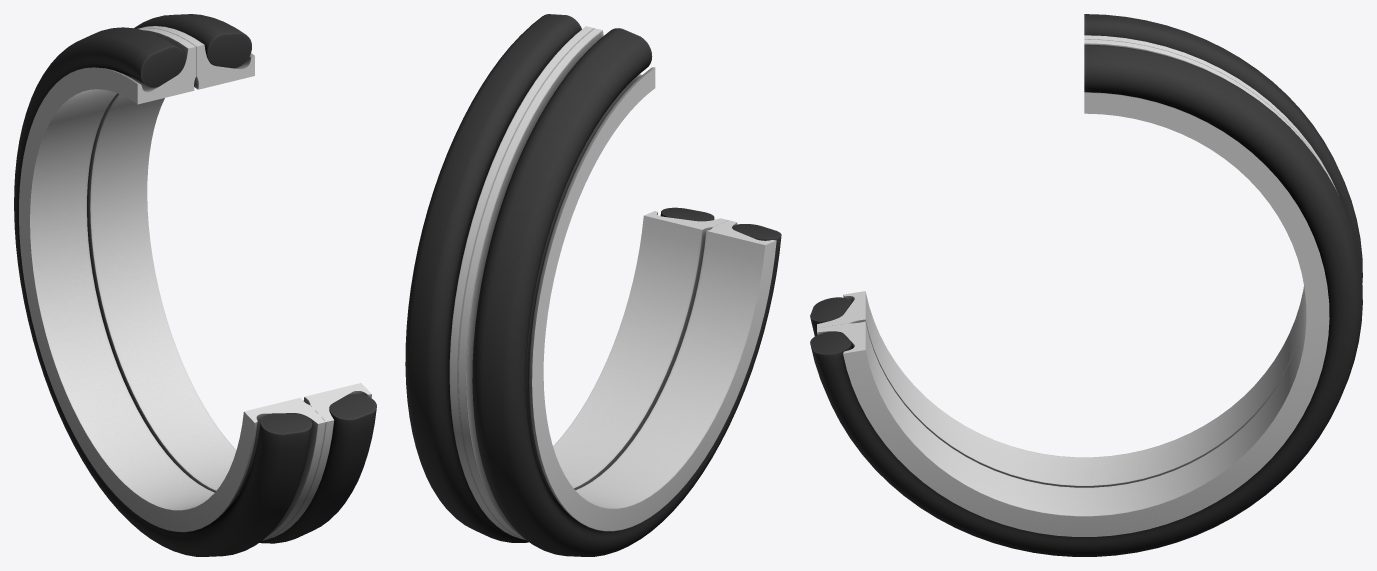
The picture shows the model from 3 angles, left to right: view 1: azimuth 30°, elevation 25°; view 2: azimuth 150°, elevation 25°; view 3: azimuth 270°, elevation 25°; orthographic projection. The views are drawn at different scales.
Parts seen in each view (by area): view 1: PR00126_METAL_mechanical_face_seals, PR00126_mechanical_face_seals; view 2: PR00126_METAL_mechanical_face_seals, PR00126_mechanical_face_seals; view 3: PR00126_METAL_mechanical_face_seals, PR00126_mechanical_face_seals.
Part boxes in pixels (box(x1,y1,x2,y2)): PR00126_METAL_mechanical_face_seals: box(19, 26, 371, 540); PR00126_mechanical_face_seals: box(14, 14, 376, 556); PR00126_METAL_mechanical_face_seals: box(449, 26, 776, 540); PR00126_mechanical_face_seals: box(405, 14, 781, 556); PR00126_METAL_mechanical_face_seals: box(817, 35, 1338, 536); PR00126_mechanical_face_seals: box(810, 14, 1362, 556).
Size of the model in its own units: 0.0499 by 0.199 by 0.1975.
Materials: 2 (2 with a texture image).
